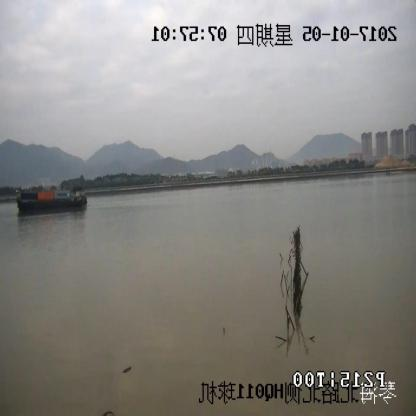Container Ship: (17, 190, 88, 214)
